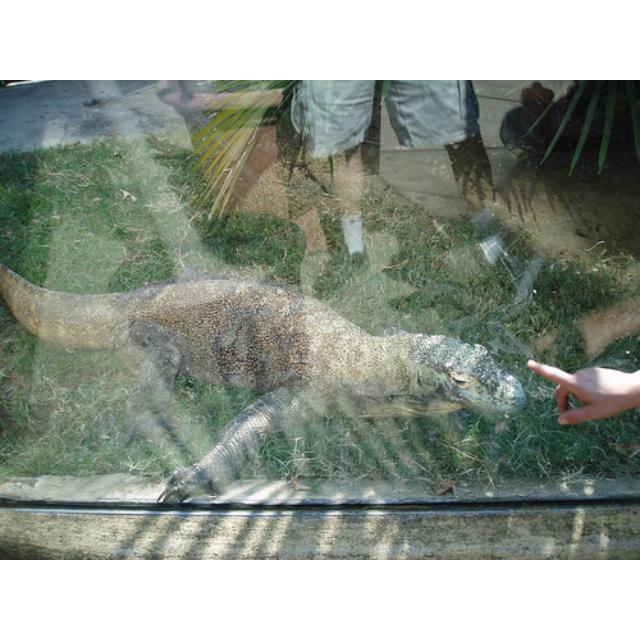KomodoDragon: (0, 265, 526, 501)
